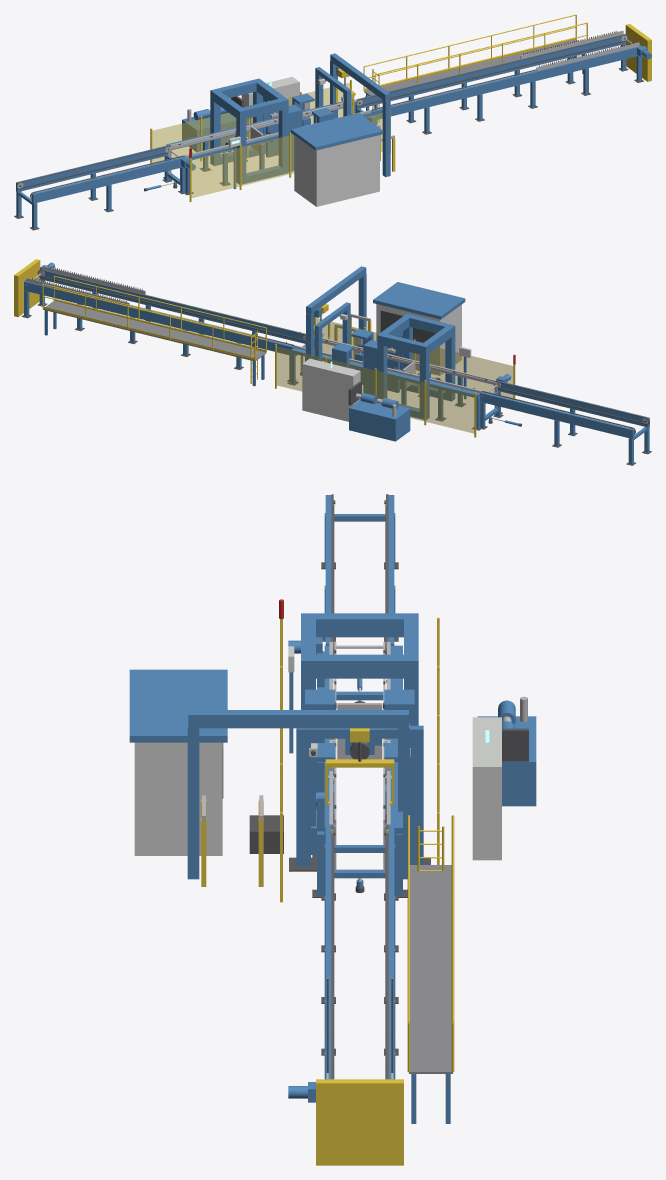
Rendered from SM_AnodePrepMachine.fbx.
3 renders of one model, top to bottom at view 1: azimuth 30°, elevation 25°; view 2: azimuth 150°, elevation 25°; view 3: azimuth 270°, elevation 25°, orthographic. The views are drawn at different scales.
Visible parts, largest first — view 1: AP_Dressing, AP_Spacer_Frame, AP_Guards, AP_PressFrame, AP_Infeed_Frame, AP_InspectReject, AP_StationFrame, AP_PickupGuides, AP_LugPressFrame, AP_Spacer_L_Chain, AP_WalkingBeam, AP_MillFrame (+1 smaller); view 2: AP_Dressing, AP_Guards, AP_Spacer_Frame, AP_Infeed_Frame, AP_PressFrame, AP_InspectReject, AP_StationFrame, AP_PickupGuides, AP_LugPressFrame, AP_MillFrame, AP_Spacer_R_Chain, AP_WalkingBeam (+1 smaller); view 3: AP_Dressing, AP_InspectReject, AP_PickupGuides, AP_PressFrame, AP_Spacer_Frame, AP_StationFrame, AP_Infeed_Frame, AP_MillFrame, AP_WalkingBeam, AP_Guards, AP_LugPressFrame, AP_RejectTongs.
Part boxes in pixels (left/top/right/bottom): AP_Dressing: left=182, top=14, right=587, bottom=206; AP_Spacer_Frame: left=355, top=34, right=651, bottom=134; AP_Guards: left=150, top=80, right=390, bottom=202; AP_PressFrame: left=210, top=78, right=288, bottom=184; AP_Infeed_Frame: left=14, top=145, right=195, bottom=230; AP_InspectReject: left=315, top=53, right=395, bottom=177; AP_StationFrame: left=163, top=99, right=375, bottom=195; AP_PickupGuides: left=520, top=24, right=651, bottom=81; AP_LugPressFrame: left=263, top=96, right=302, bottom=171; AP_Spacer_L_Chain: left=356, top=34, right=628, bottom=106; AP_WalkingBeam: left=167, top=103, right=352, bottom=184; AP_MillFrame: left=292, top=93, right=333, bottom=122; AP_Dressing: left=42, top=275, right=515, bottom=441; AP_Guards: left=275, top=317, right=515, bottom=437; AP_Spacer_Frame: left=21, top=262, right=305, bottom=381; AP_Infeed_Frame: left=480, top=374, right=651, bottom=465; AP_PressFrame: left=377, top=314, right=455, bottom=419; AP_InspectReject: left=306, top=266, right=371, bottom=361; AP_StationFrame: left=287, top=336, right=502, bottom=430; AP_PickupGuides: left=14, top=259, right=145, bottom=316; AP_LugPressFrame: left=363, top=332, right=402, bottom=395; AP_MillFrame: left=332, top=329, right=373, bottom=384; AP_Spacer_R_Chain: left=37, top=269, right=305, bottom=341; AP_WalkingBeam: left=300, top=338, right=498, bottom=420; AP_Dressing: left=129, top=599, right=536, bottom=1123; AP_InspectReject: left=187, top=710, right=430, bottom=886; AP_PickupGuides: left=316, top=978, right=403, bottom=1165; AP_PressFrame: left=301, top=613, right=418, bottom=725; AP_Spacer_Frame: left=288, top=826, right=398, bottom=1102; AP_StationFrame: left=288, top=642, right=407, bottom=897; AP_Infeed_Frame: left=288, top=495, right=398, bottom=654; AP_MillFrame: left=249, top=743, right=397, bottom=854; AP_WalkingBeam: left=334, top=642, right=385, bottom=878; AP_Guards: left=280, top=617, right=439, bottom=902; AP_LugPressFrame: left=305, top=689, right=414, bottom=809; AP_RejectTongs: left=325, top=742, right=394, bottom=805.
Bounding box in the file's own units: 2911 × 375 × 830.
